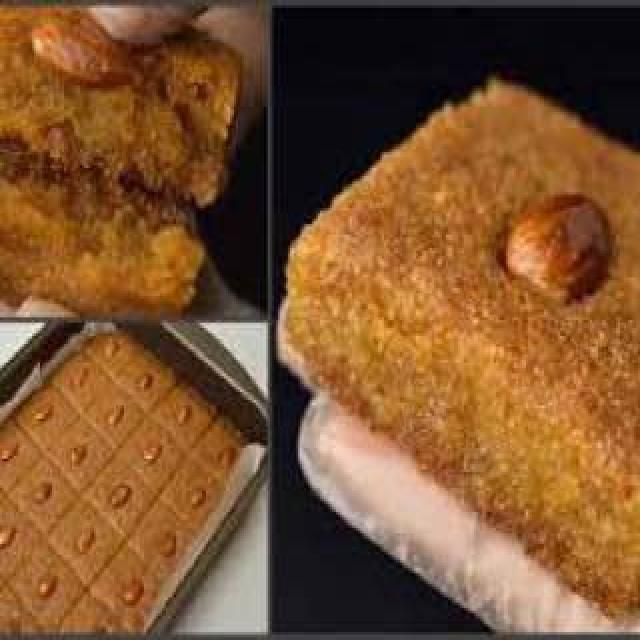pasposa: (272, 58, 640, 623), (0, 317, 253, 640), (0, 0, 253, 320)
